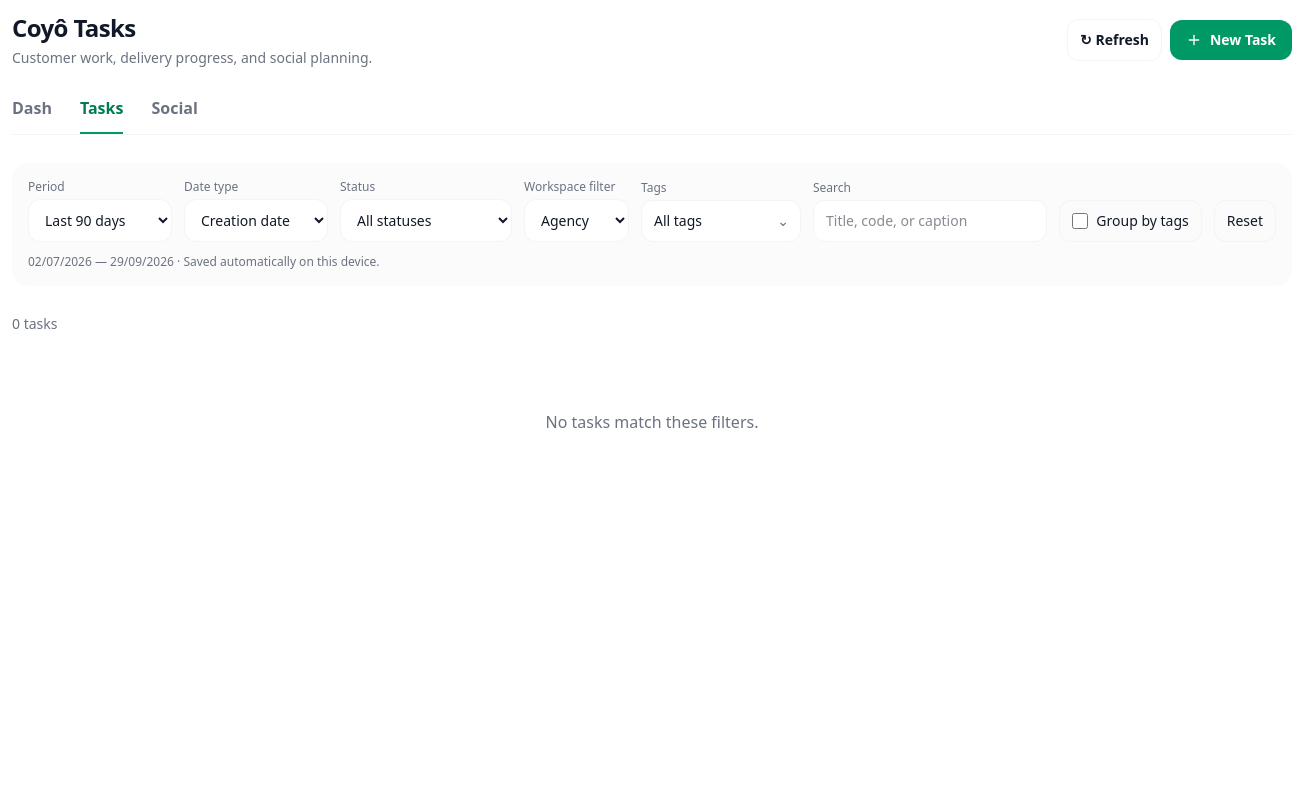
preserves separate filters and switches Social to a calendar
The width and height of the screenshot is (1304, 812).
Click the button "dash".
click(32, 115)  # box [12,96,52,134]
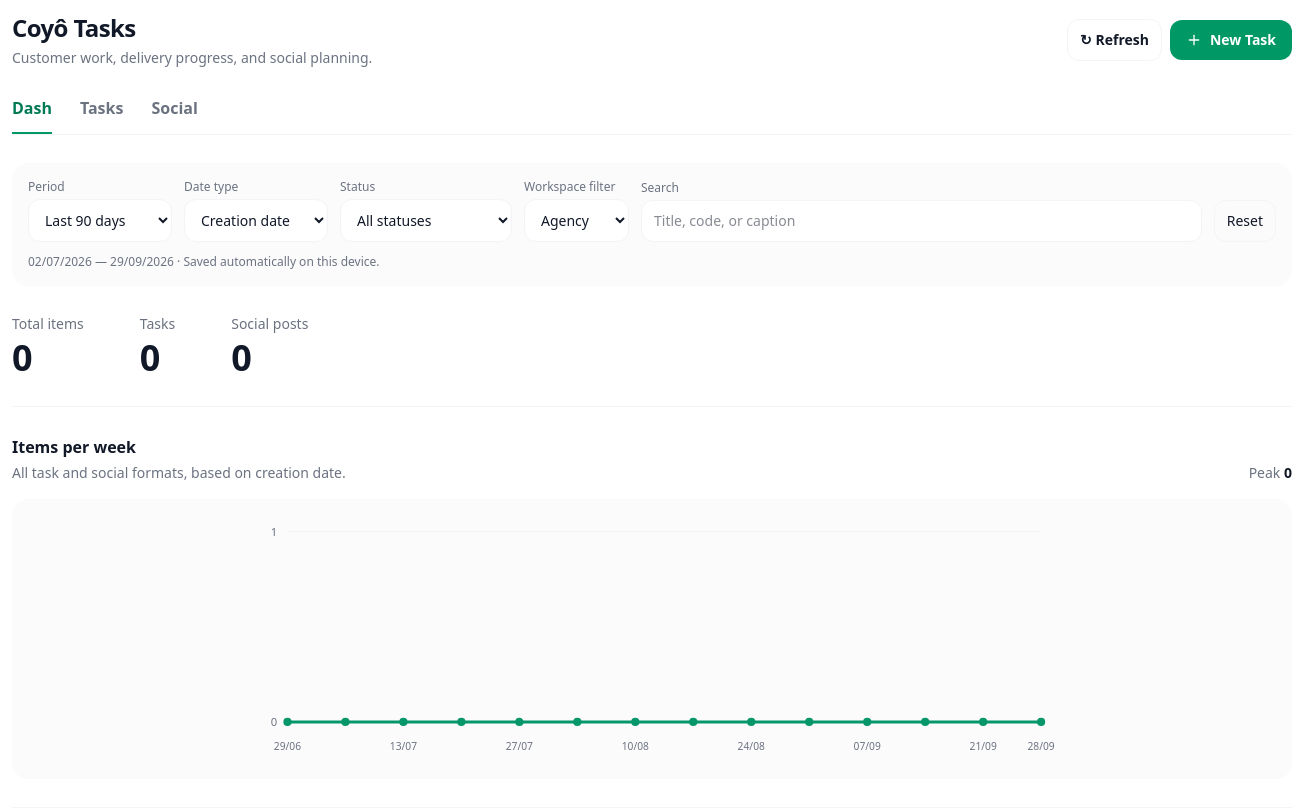
Type "dash search" into the search field labelled "Search".
click(921, 221); type("dash search")  # box [641,200,1202,242]
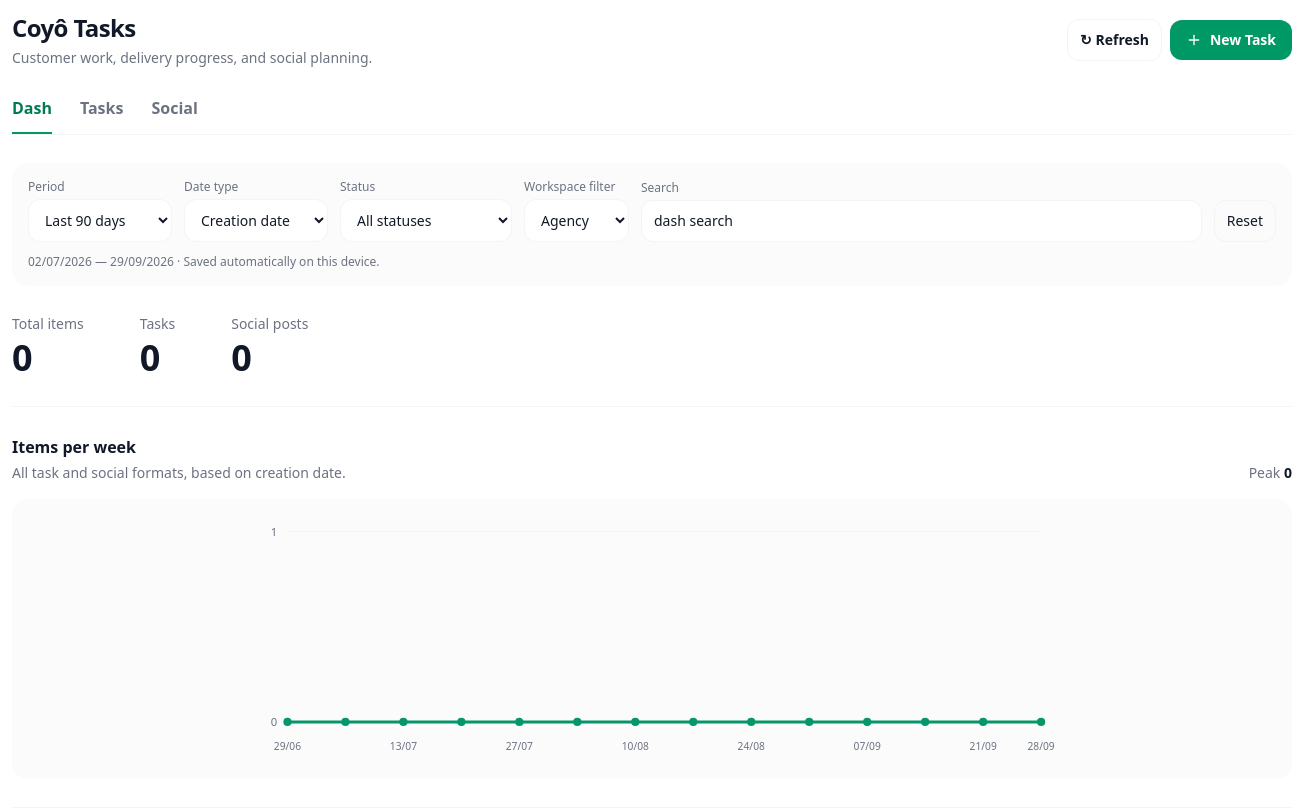
Click the button "tasks".
click(102, 115)  # box [80,96,124,134]
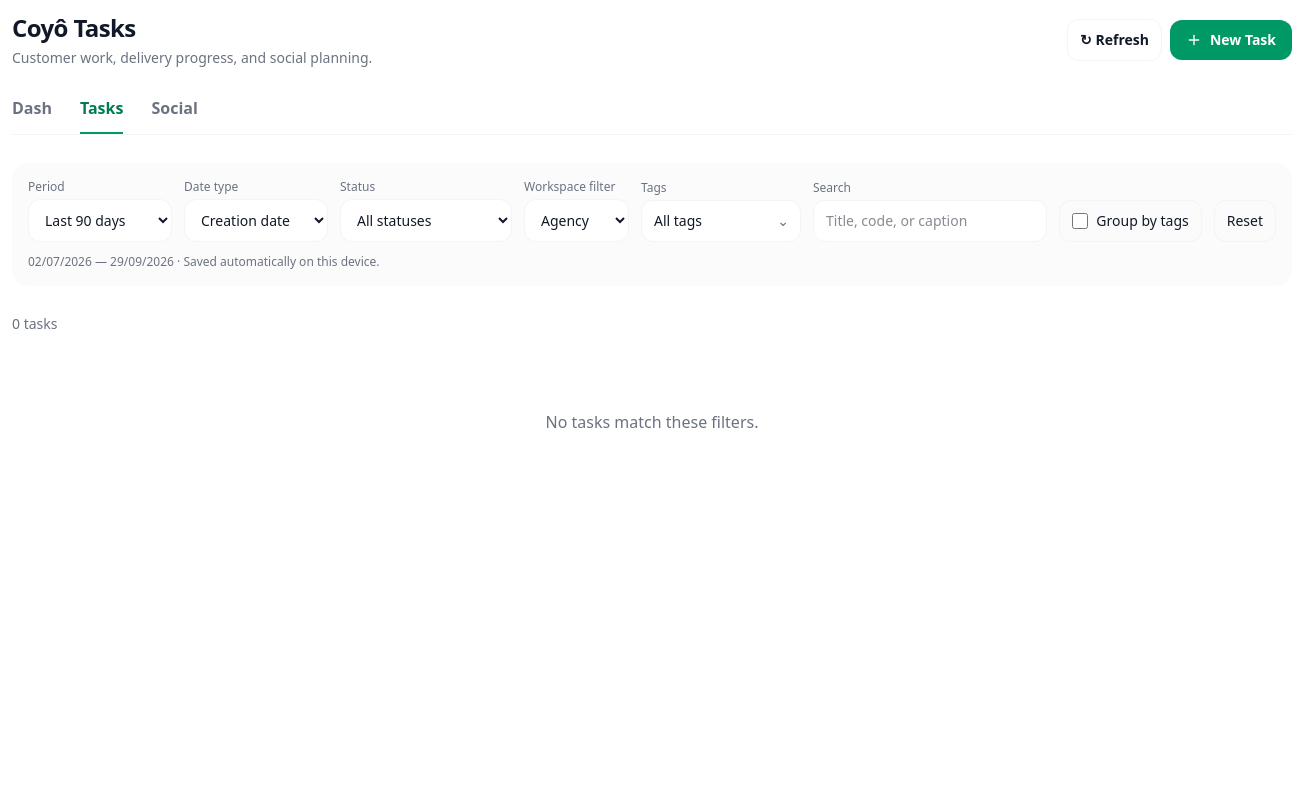
Result: the search field labelled "Search" is empty at [813,200,1047,242]
Click the button "dash".
click(32, 115)  # box [12,96,52,134]
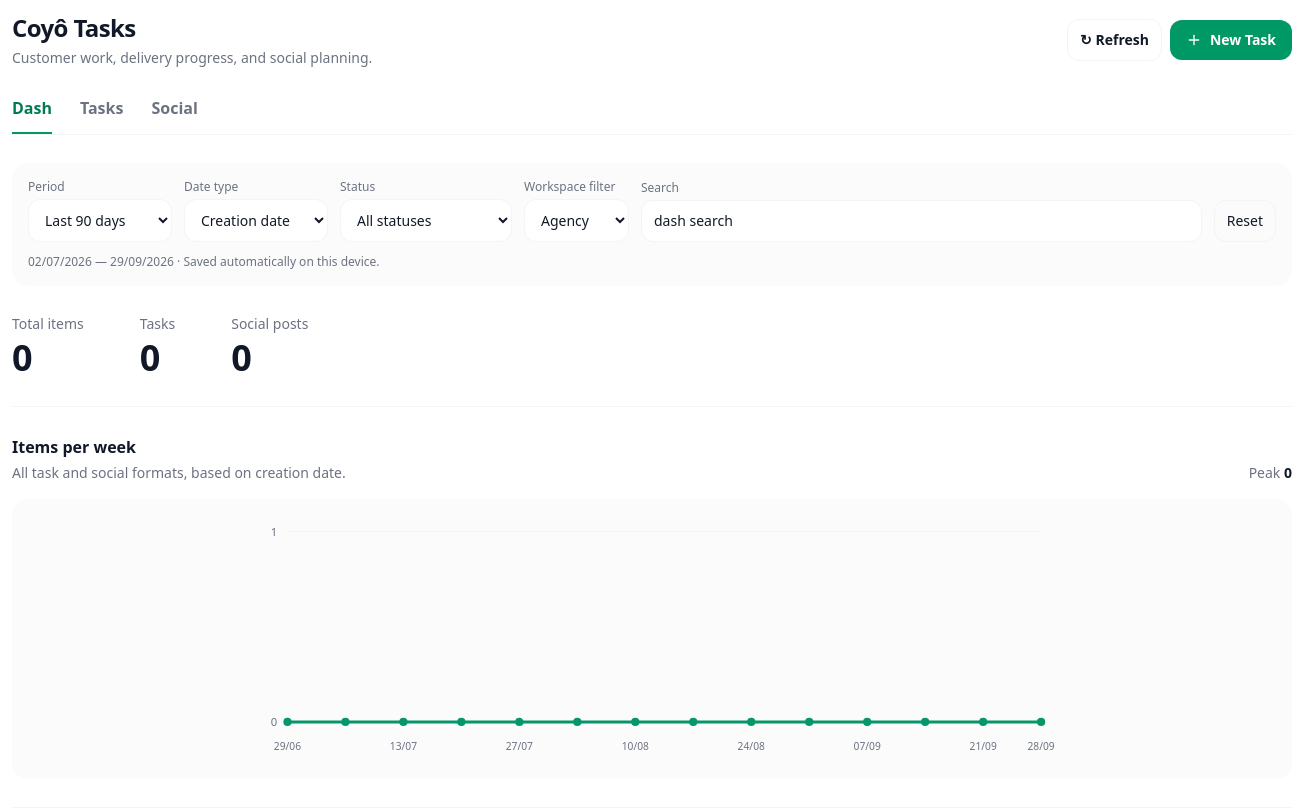
Click the button "social".
click(175, 115)  # box [152,96,198,134]
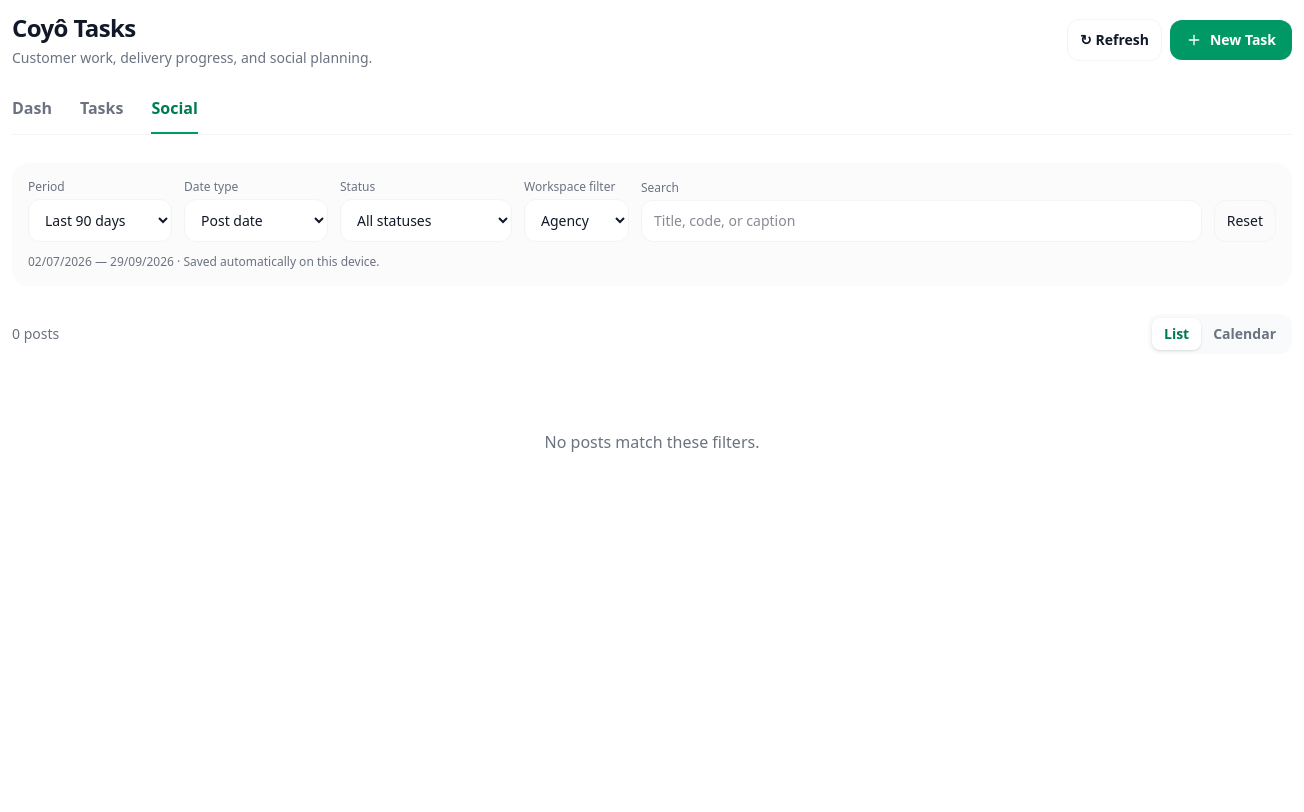
Result: the dropdown labelled "Date type" shows "Post date" at [184,199,328,242]
Click the button "calendar".
click(1245, 334)  # box [1201,318,1288,350]
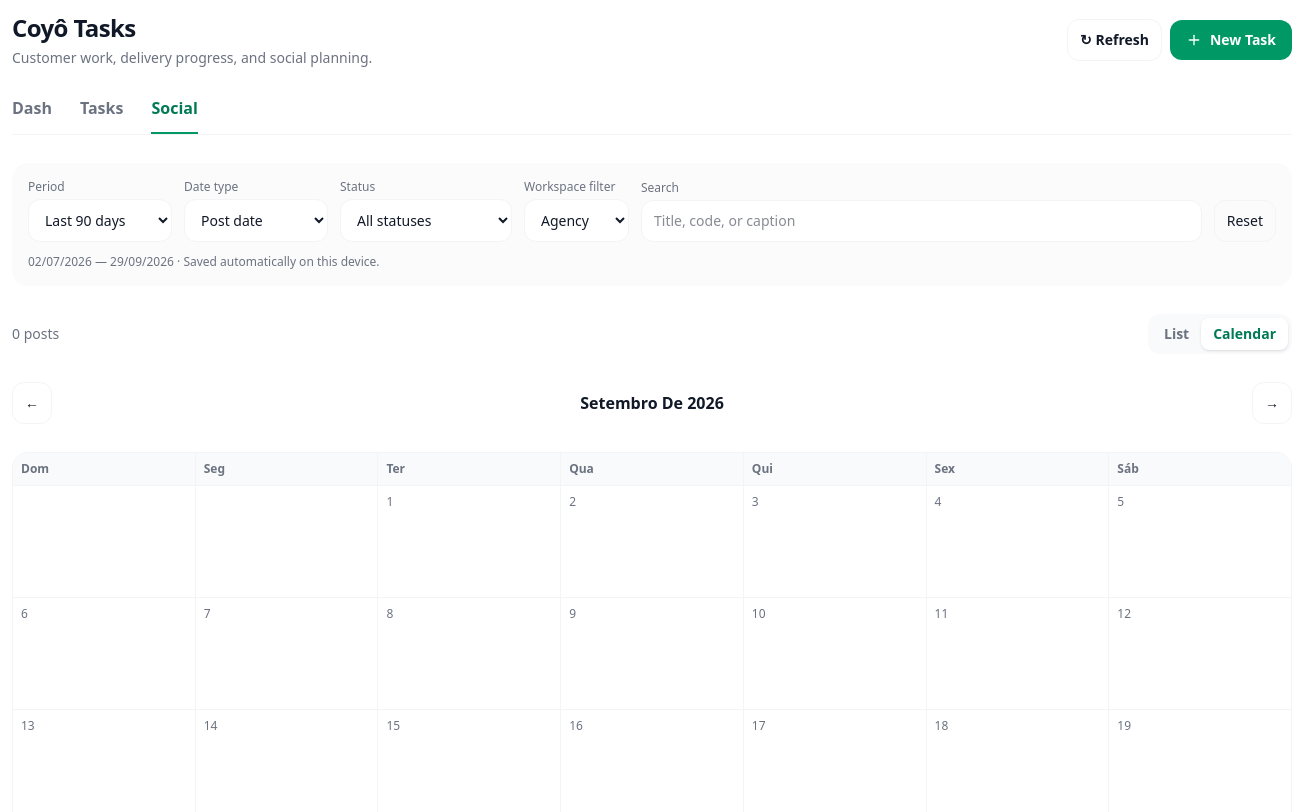
Result: the button named "Next month" is shown at [1252,382,1292,424]
